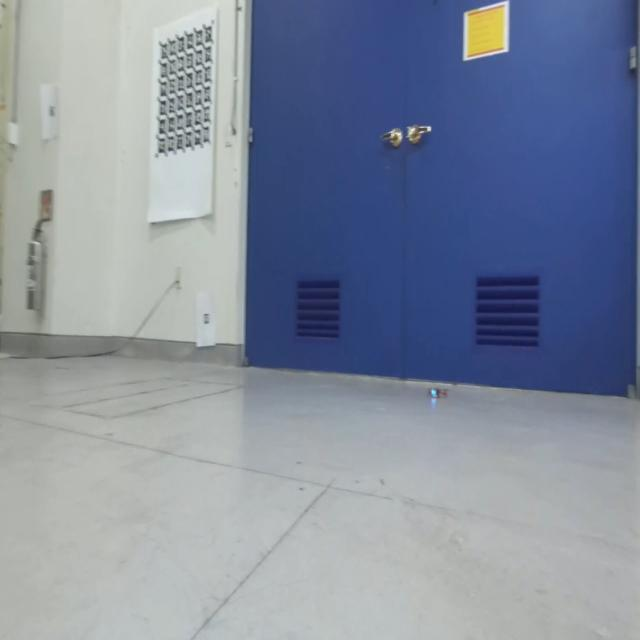crazyflie: (424, 380, 452, 404)
